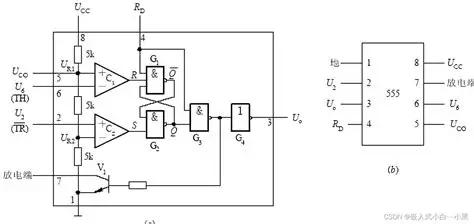bistable flip-flop: (138, 66, 212, 140)
comparator1: (94, 114, 130, 149), (95, 63, 131, 97)
discharge circuit: (96, 173, 149, 197)
output circuit: (231, 103, 250, 131)
reset circuit: (125, 39, 154, 59)
resistance: (74, 45, 82, 64), (74, 96, 82, 115), (75, 147, 82, 166)
